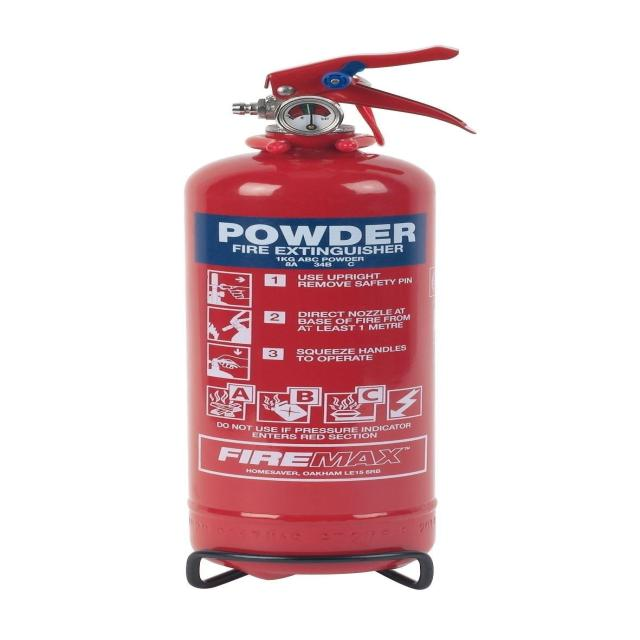fire_extinguisher: (173, 42, 483, 579)
